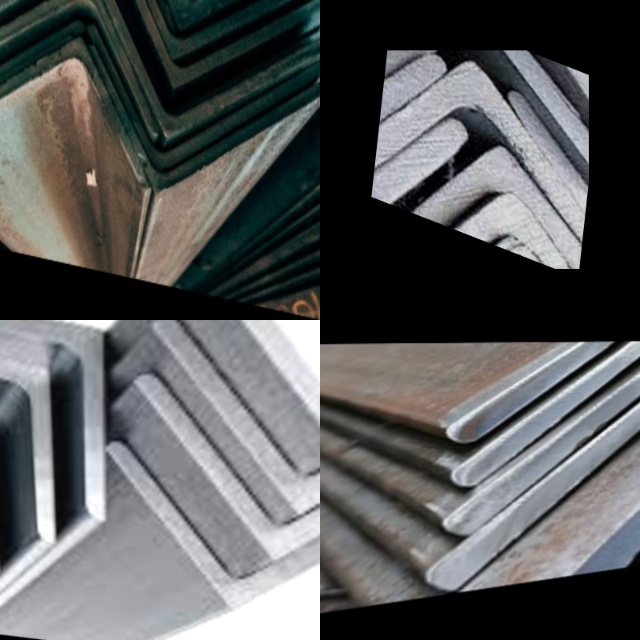Angle: (90, 386, 320, 609), (117, 320, 320, 565), (372, 55, 589, 269), (94, 0, 320, 197), (95, 29, 320, 217), (128, 320, 320, 516), (107, 0, 320, 162), (454, 385, 640, 569), (0, 320, 144, 535), (459, 358, 640, 526), (0, 7, 145, 204), (384, 128, 586, 269), (117, 0, 320, 122), (156, 320, 320, 469), (0, 0, 157, 139), (0, 320, 92, 552), (475, 340, 640, 466), (116, 0, 320, 85), (469, 340, 640, 428), (421, 179, 582, 269), (467, 50, 589, 162), (0, 3, 80, 172), (0, 0, 85, 151), (126, 0, 320, 53), (371, 105, 453, 225), (372, 50, 434, 208), (0, 0, 94, 90), (594, 424, 640, 570), (0, 0, 175, 34), (378, 50, 433, 156), (495, 50, 589, 112), (0, 0, 105, 51), (0, 367, 25, 565), (384, 50, 455, 104)
